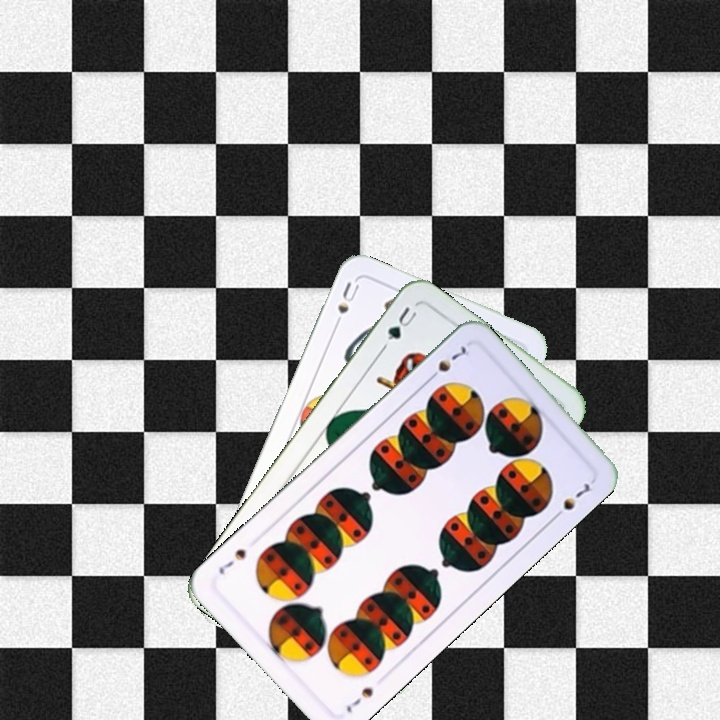GU: (378, 302, 420, 352)
S7: (423, 341, 472, 384), (342, 683, 376, 716)
SU: (328, 278, 362, 333)
